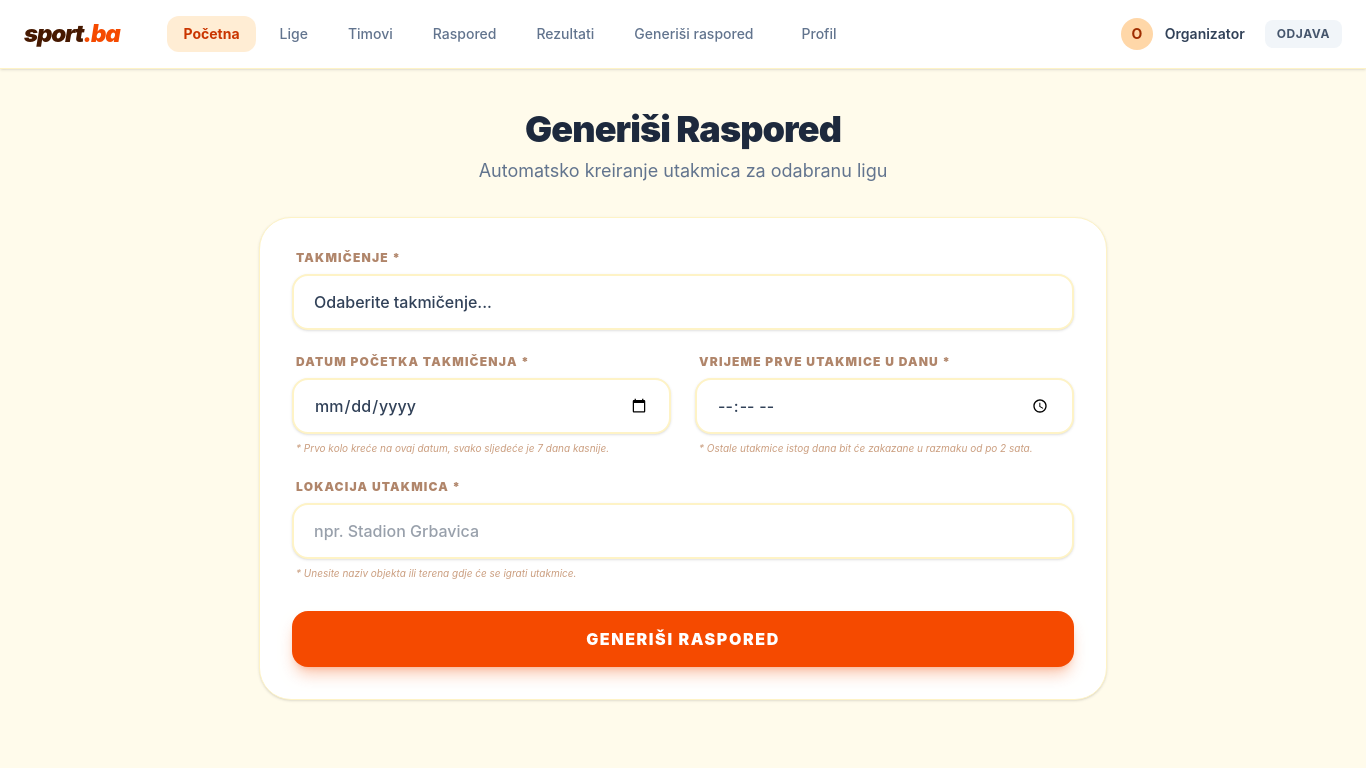
Test: GenerateSchedule › uspješno generiše raspored i prikazuje rezultat
Select "Premijer liga" in the dropdown labelled "Takmičenje *" at (683, 302), box [292, 274, 1074, 330]
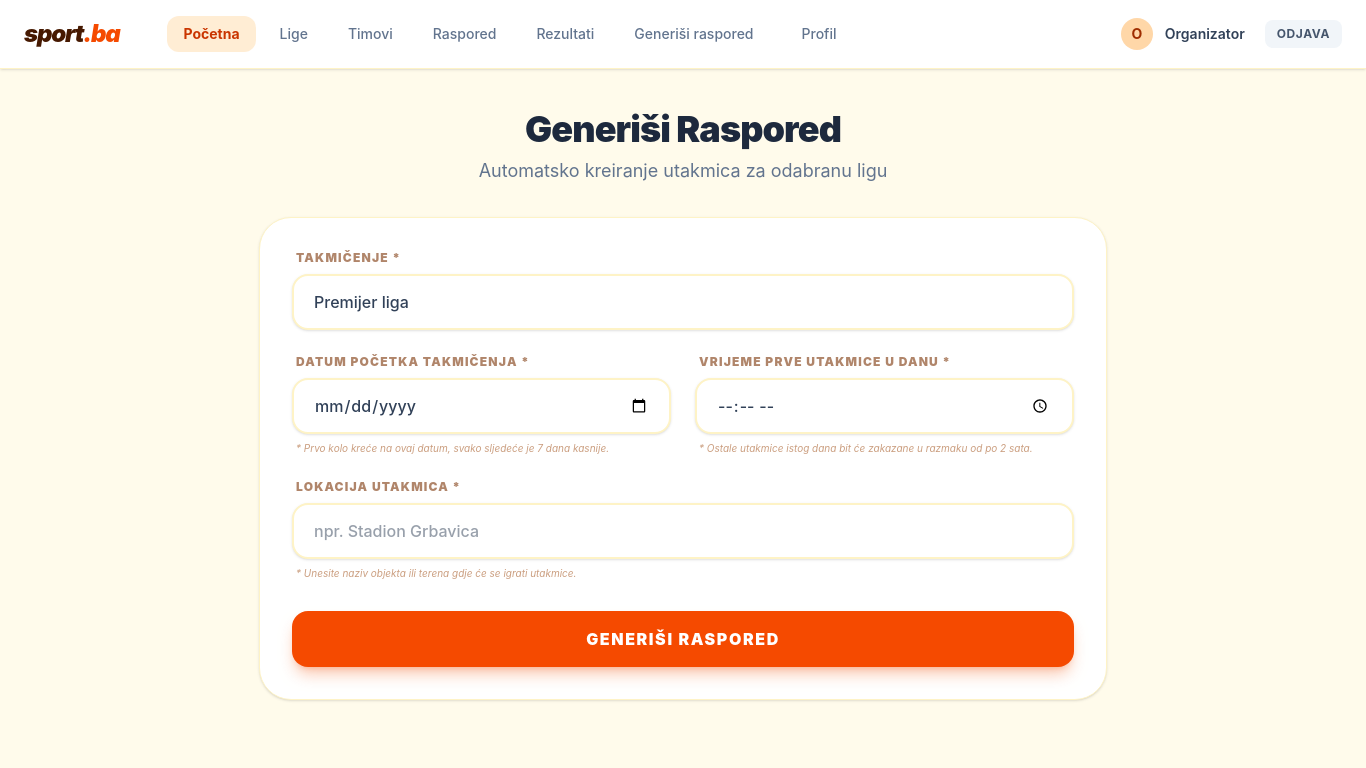
Type "2024-01-01" into the date field labelled "Datum početka takmičenja *" at (482, 406), box [292, 378, 671, 434]
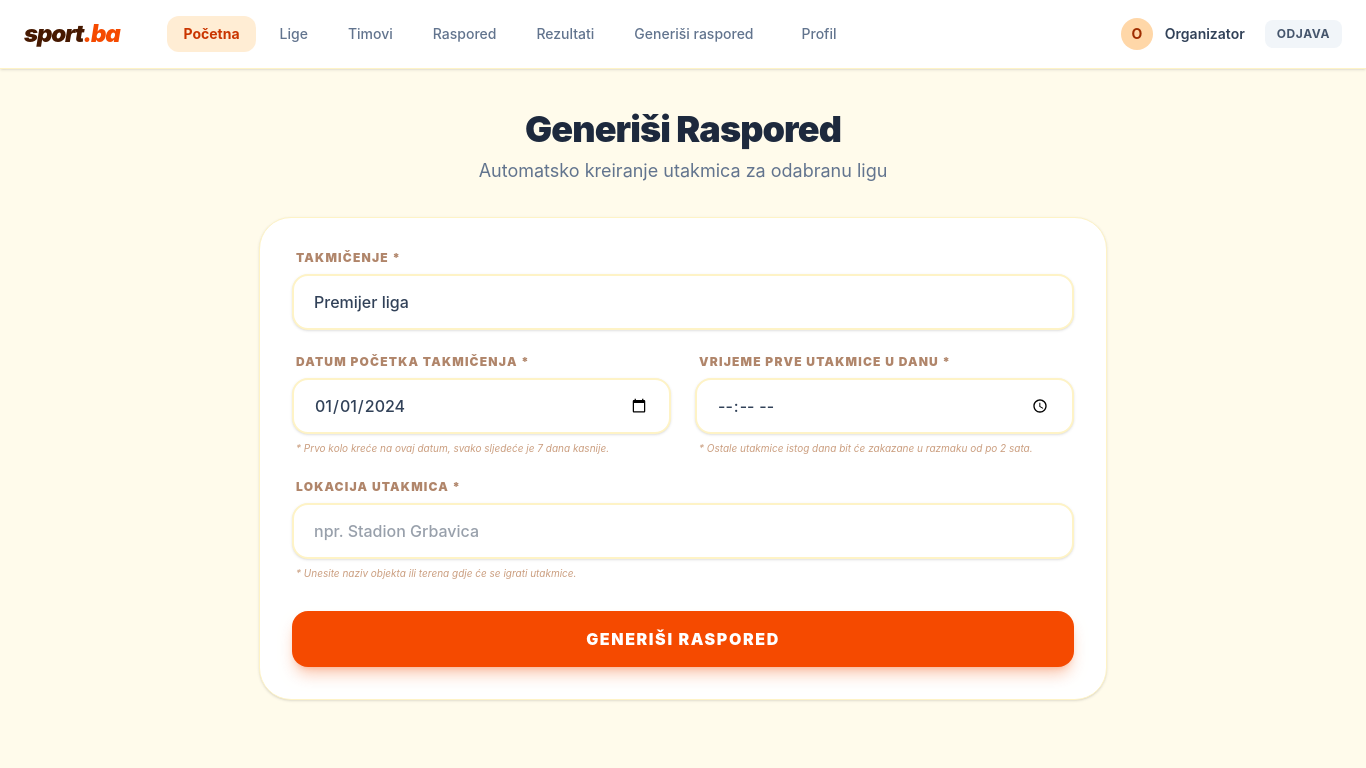
Type "15:00" into the time field labelled "Vrijeme prve utakmice u danu *" at (884, 406), box [695, 378, 1074, 434]
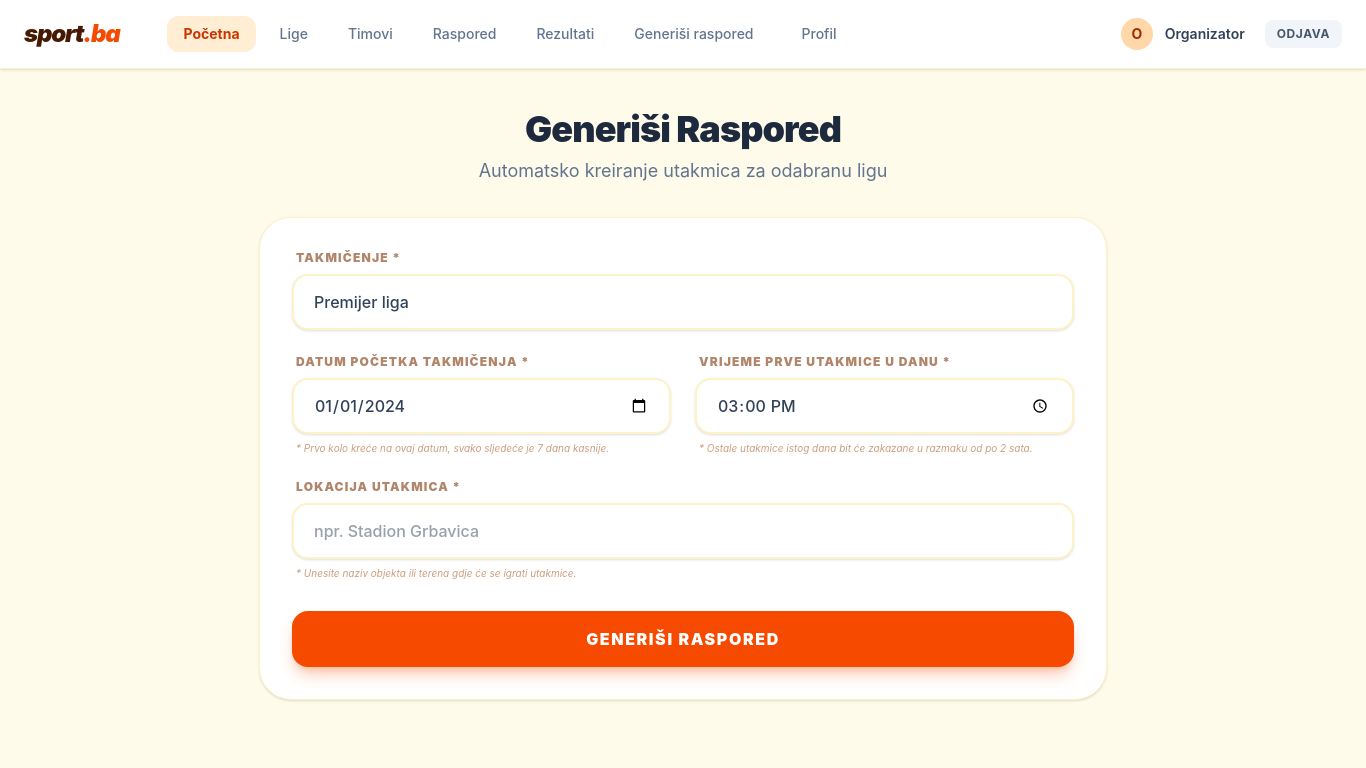
Type "Stadion" into the field labelled "Lokacija utakmica *" at (683, 530), box [292, 502, 1074, 558]
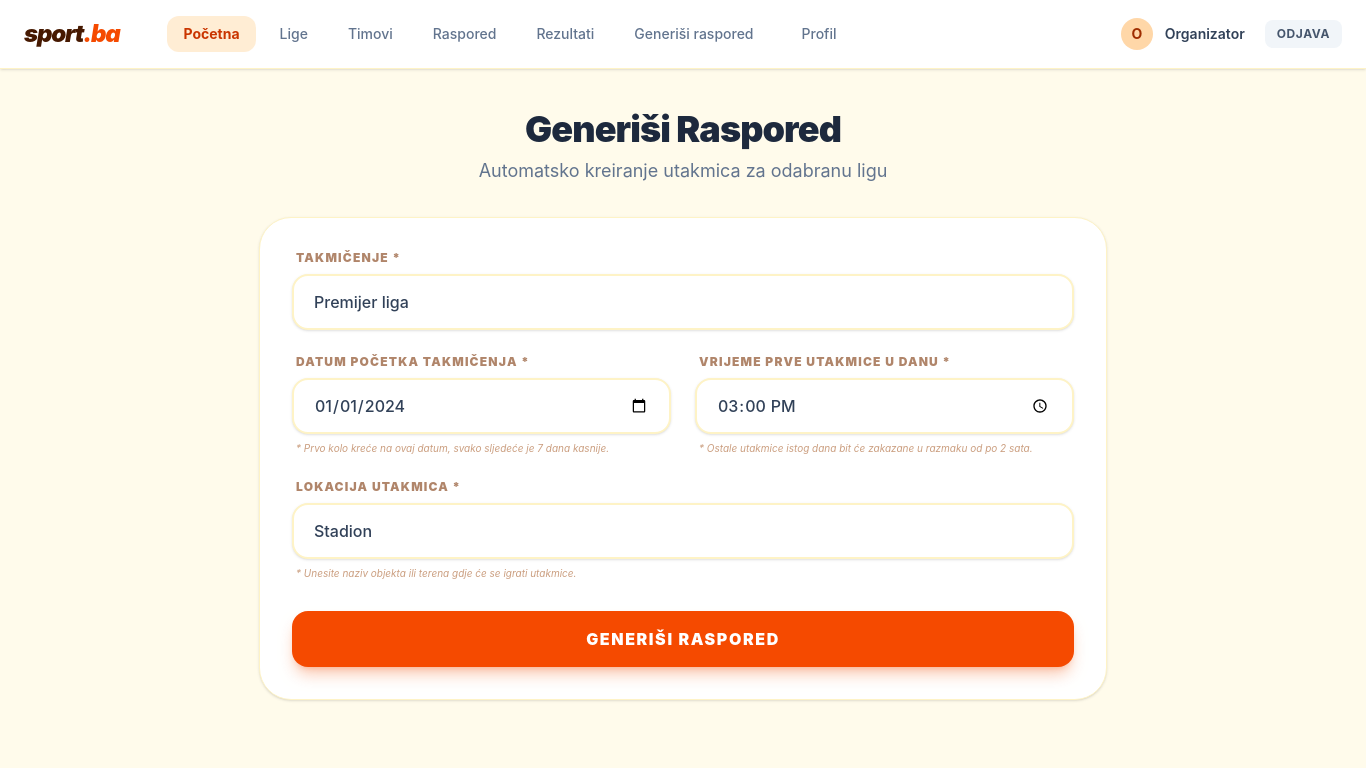
Click the button "Generiši raspored" at (683, 639), box [292, 611, 1074, 667]
(page scrolled)
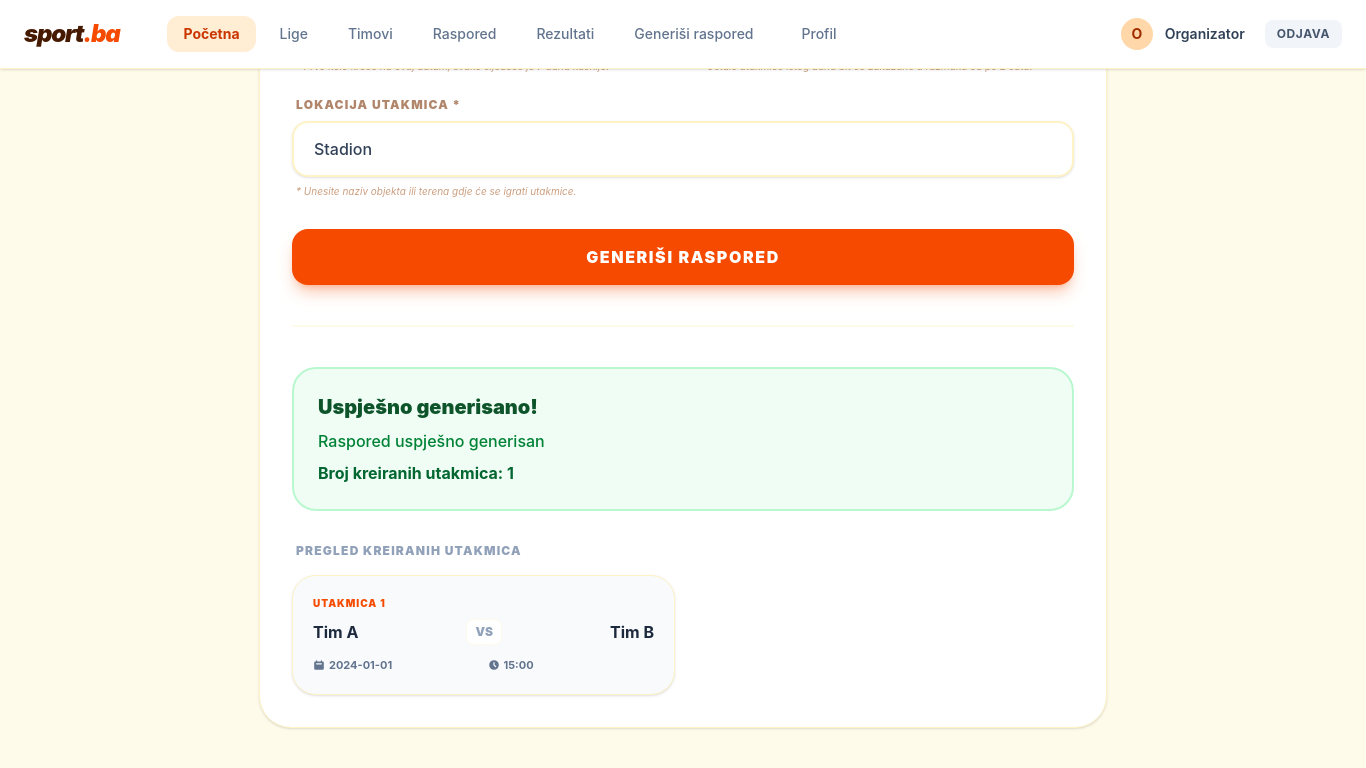
Check: the text "Raspored uspješno generisan" is shown, box [318, 431, 545, 451]
Check: the text "Broj kreiranih utakmica: 1" is shown, box [318, 463, 514, 483]
Check: the text "Tim A" is shown, box [313, 620, 358, 644]
